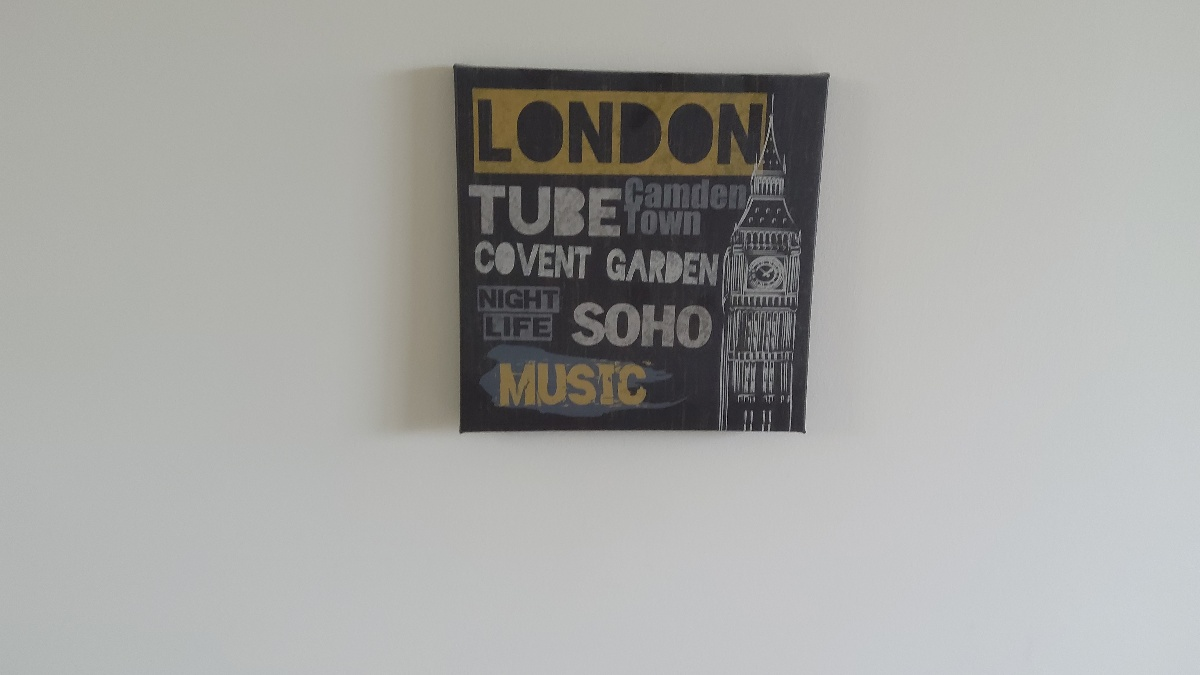poster: (439, 59, 832, 449)
